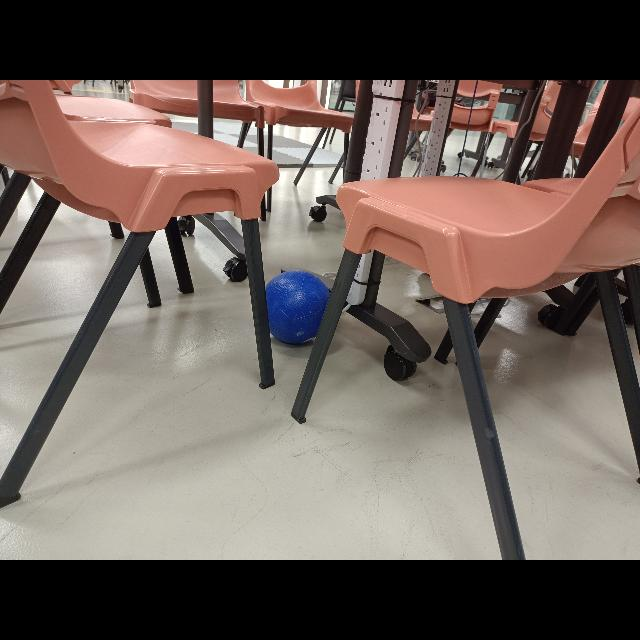B: (265, 270, 333, 344)
